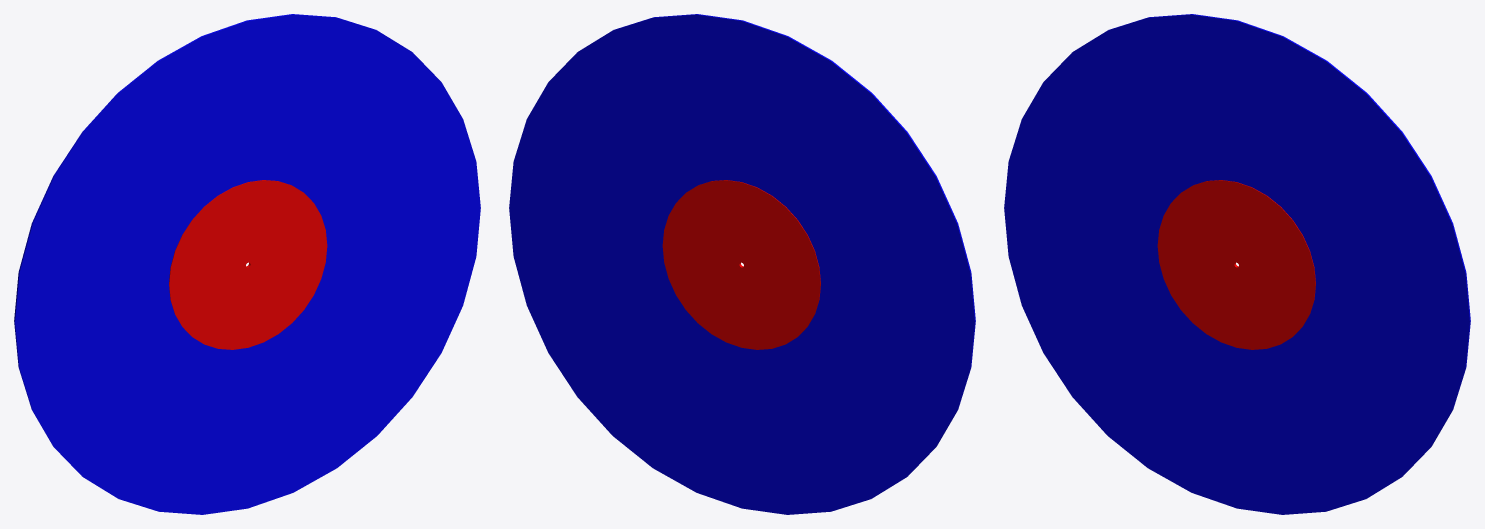
File: vinyl.fbx
The picture shows the model from 3 angles, left to right: view 1: azimuth 30°, elevation 25°; view 2: azimuth 150°, elevation 25°; view 3: azimuth 330°, elevation 25°; orthographic projection.
Visible parts, largest first — view 1: lp; view 2: lp; view 3: lp.
Boxes of the visible parts, x1,y1,x2,y2 form: lp: (14,14,480,514); lp: (509,14,975,514); lp: (1004,14,1470,514).
Size of the model in its own units: 537 by 537 by 3.28.
